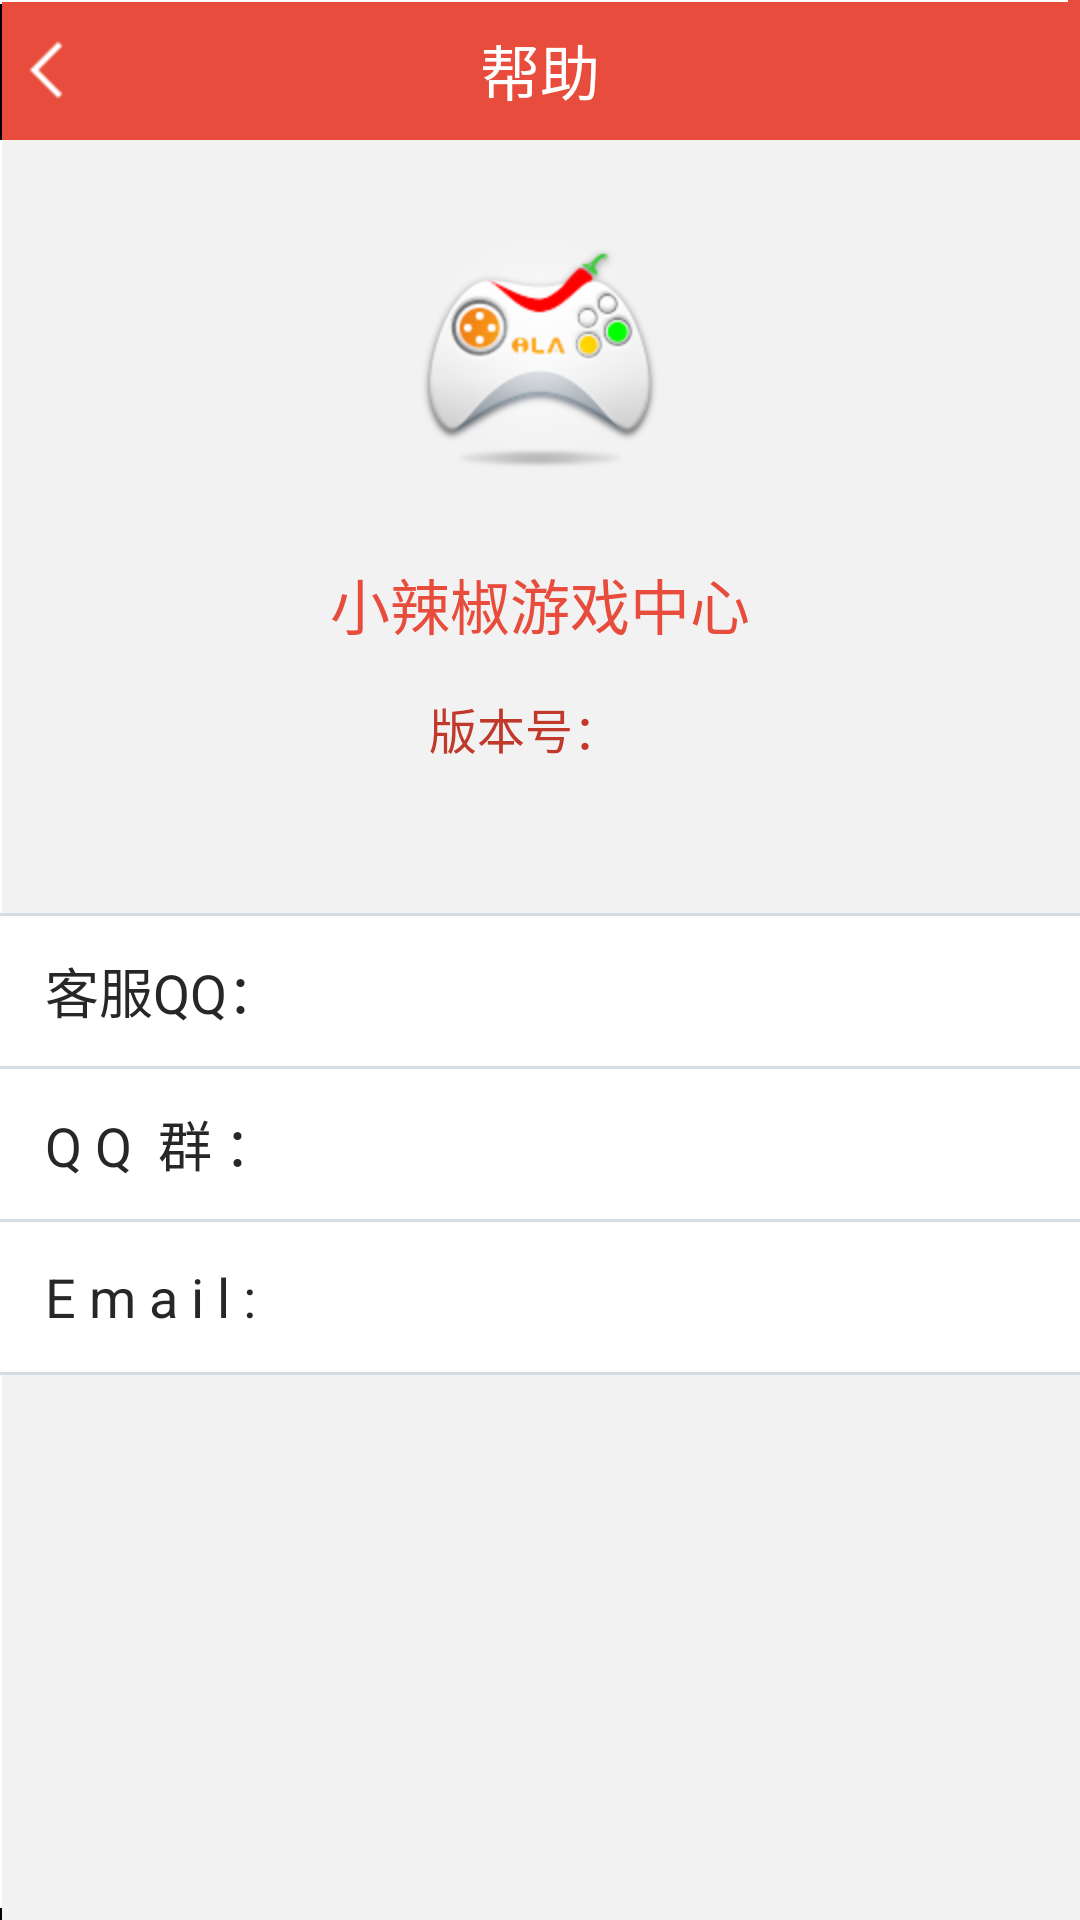

Point at icon controls on the screen. Image size 1080*1920, points as point (x, y).
back: point (46, 70)
